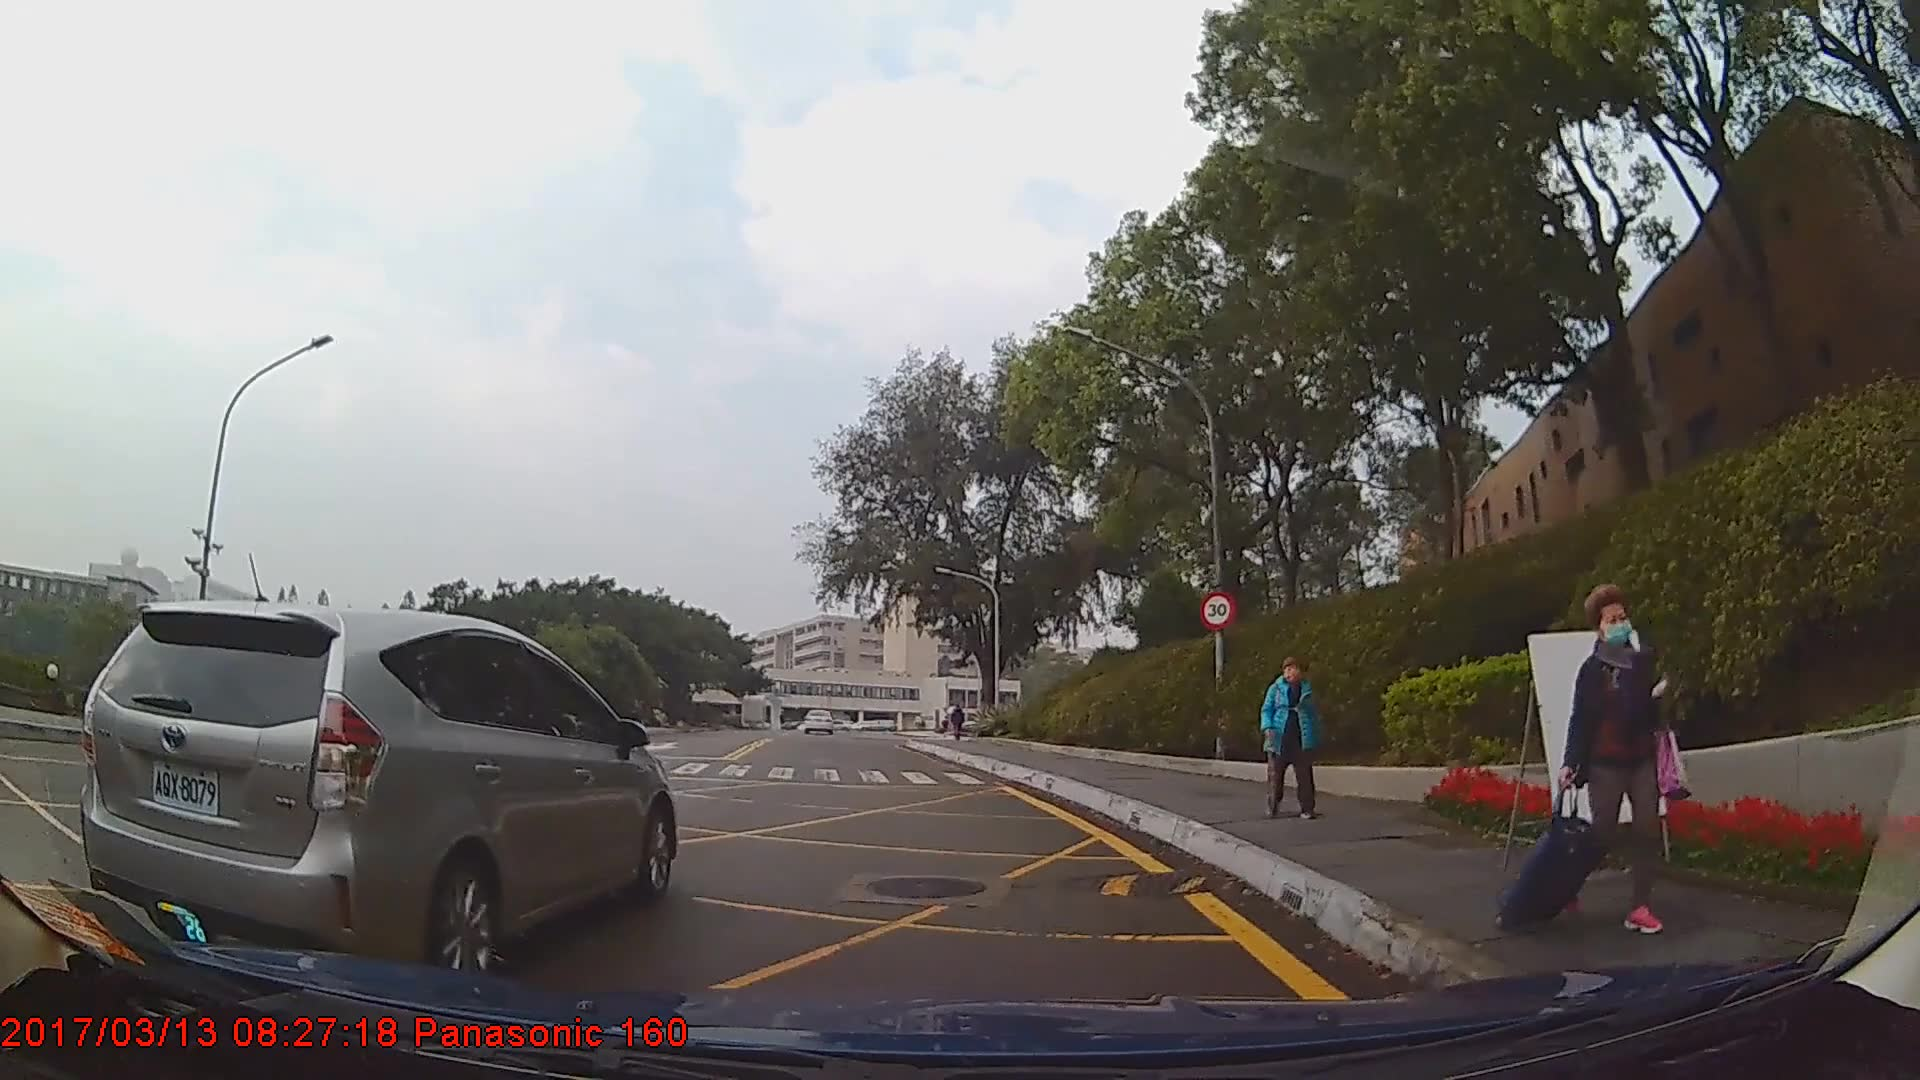pedestrian: (1494, 579, 1699, 949), (1260, 656, 1323, 820)
vehicle: (77, 595, 678, 980), (801, 708, 835, 735)
